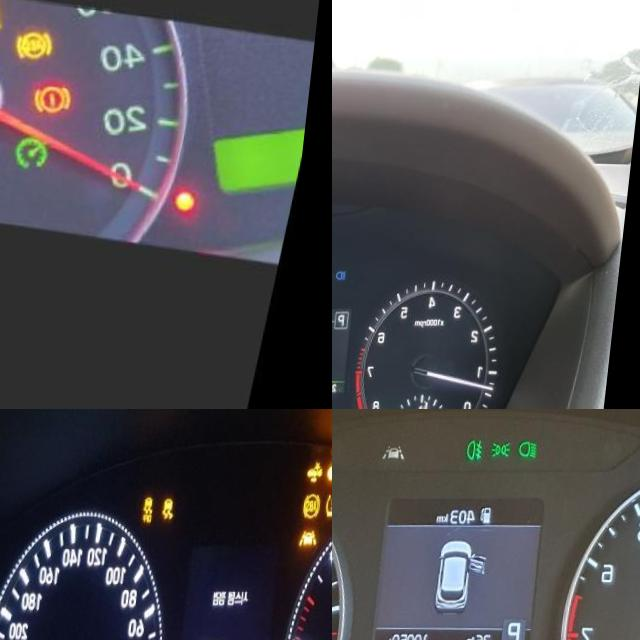FrontFogLight: (472, 437, 491, 459)
LaneCenteringOff: (304, 524, 326, 545), (390, 443, 413, 459)
Low beam: (523, 438, 546, 457)
SideLamp: (497, 438, 518, 457)
